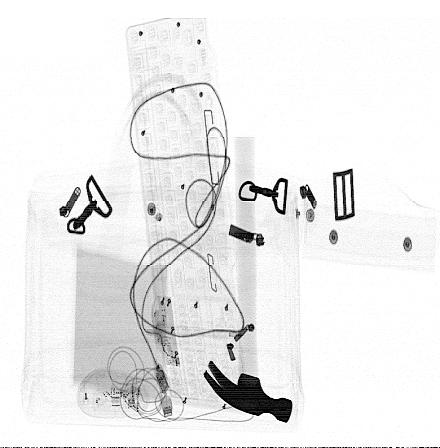Hammer: (203, 136, 293, 424)
